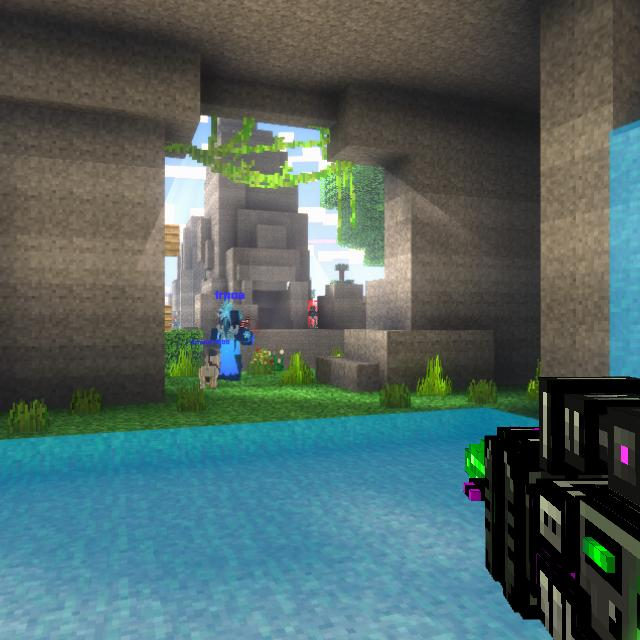Enemy: (308, 306, 317, 327)
